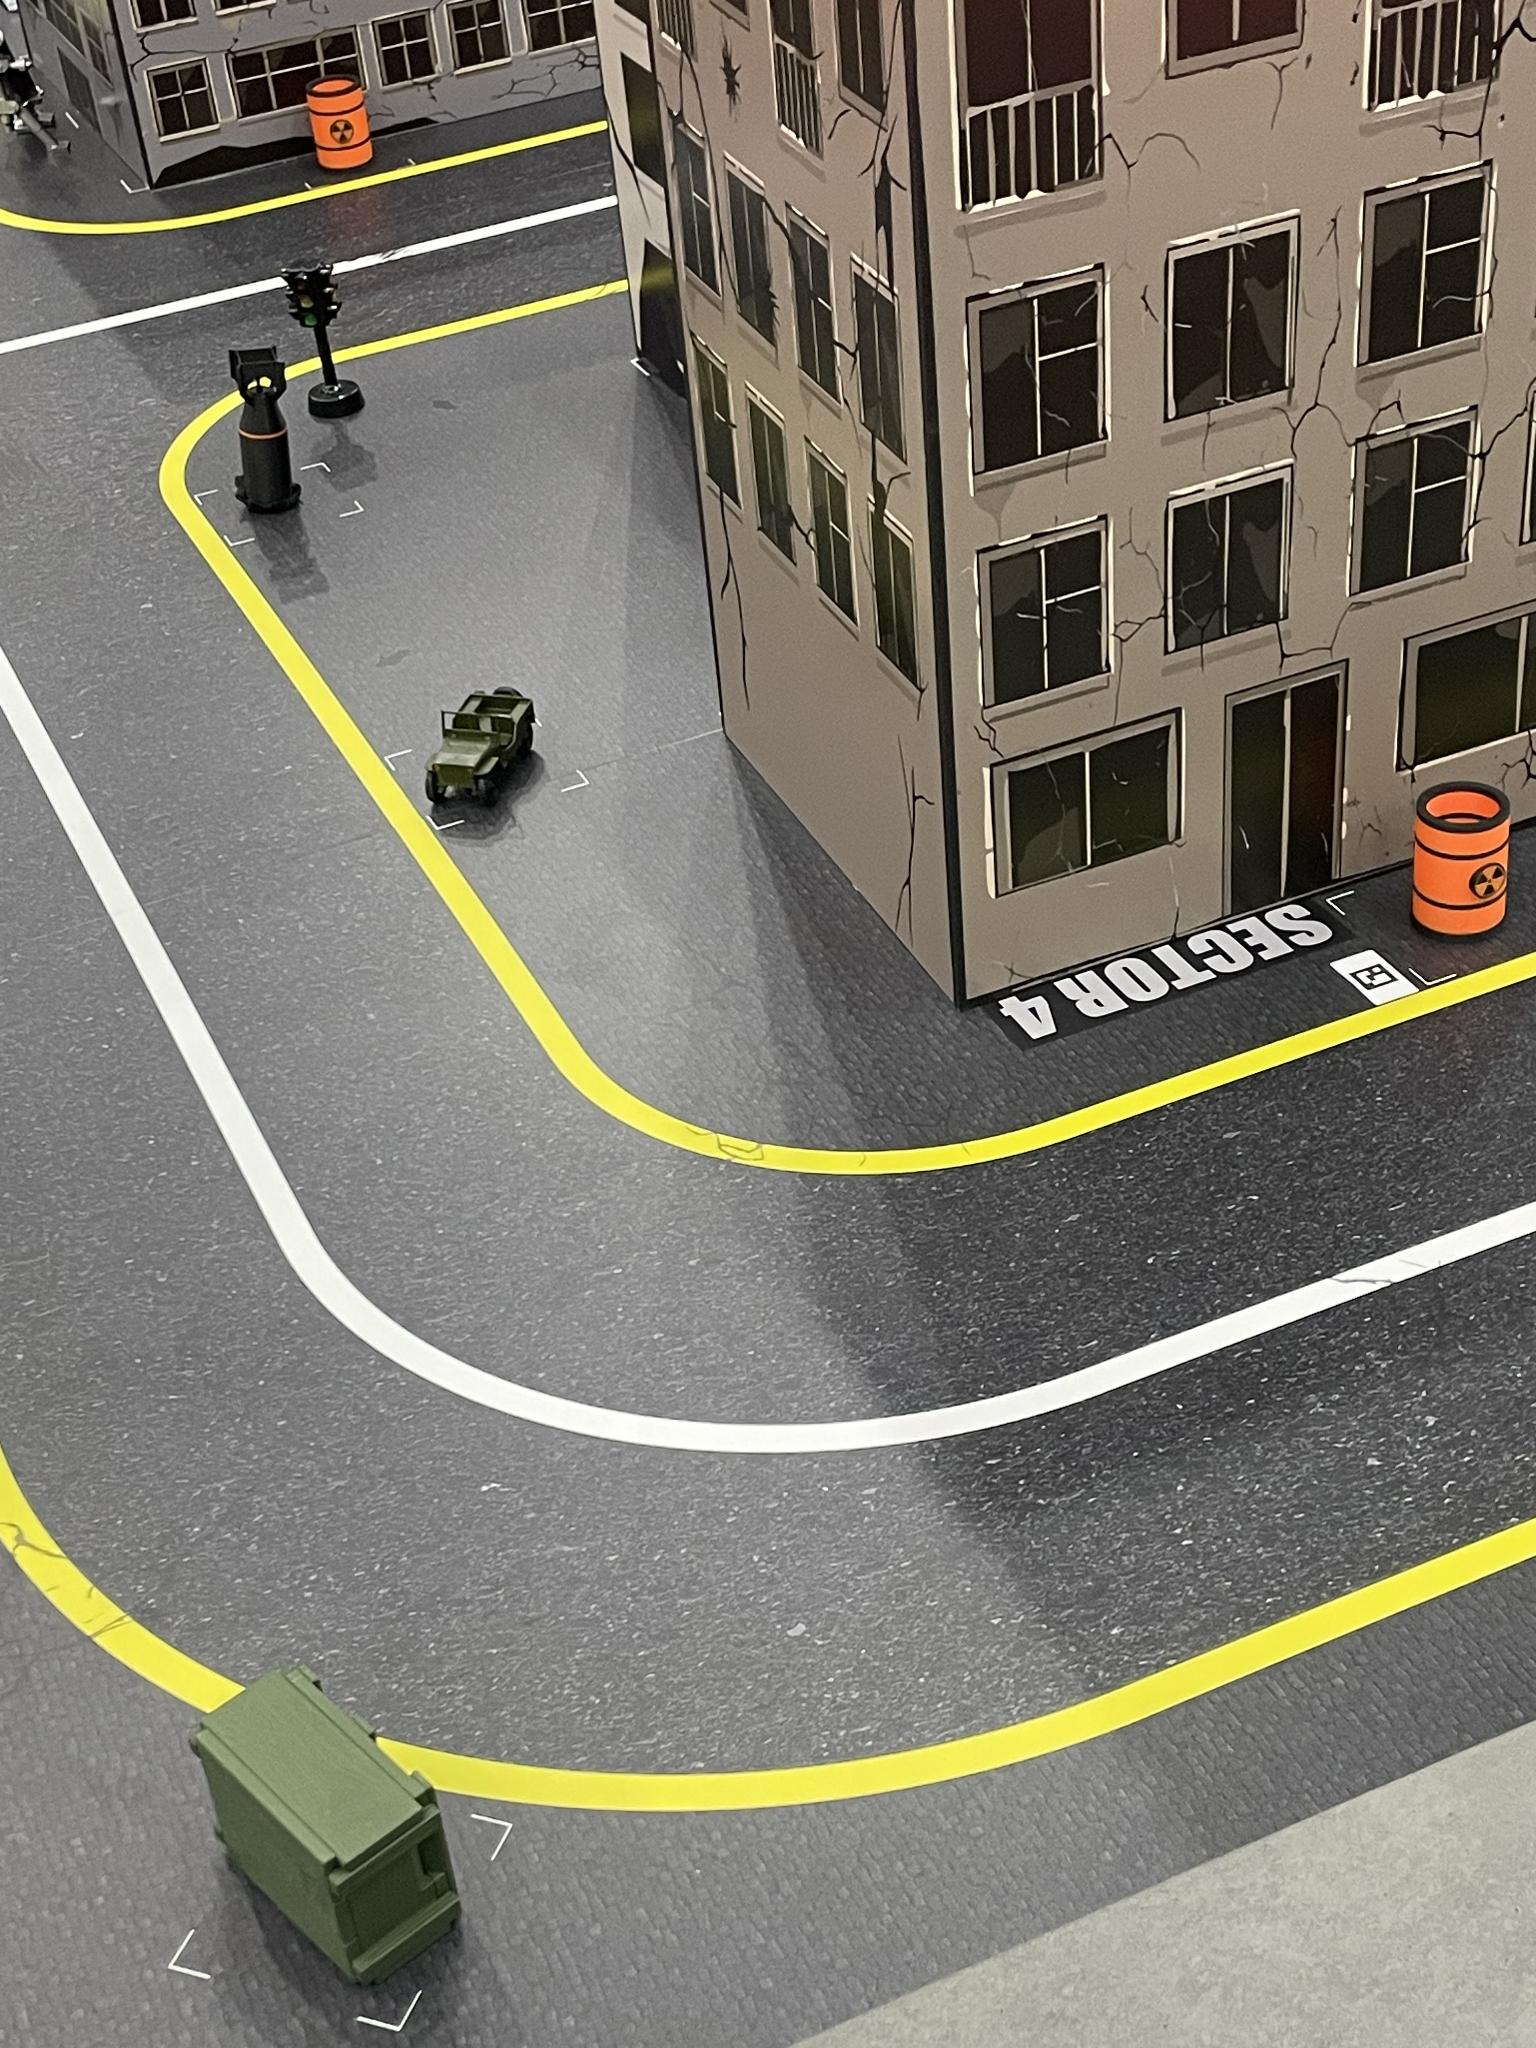Box: (165, 1640, 470, 1996)
Car: (424, 684, 541, 816)
Hazmat: (1397, 782, 1518, 947), (297, 74, 373, 168)
Missile: (208, 340, 307, 518)
Mortar: (0, 23, 79, 164)
